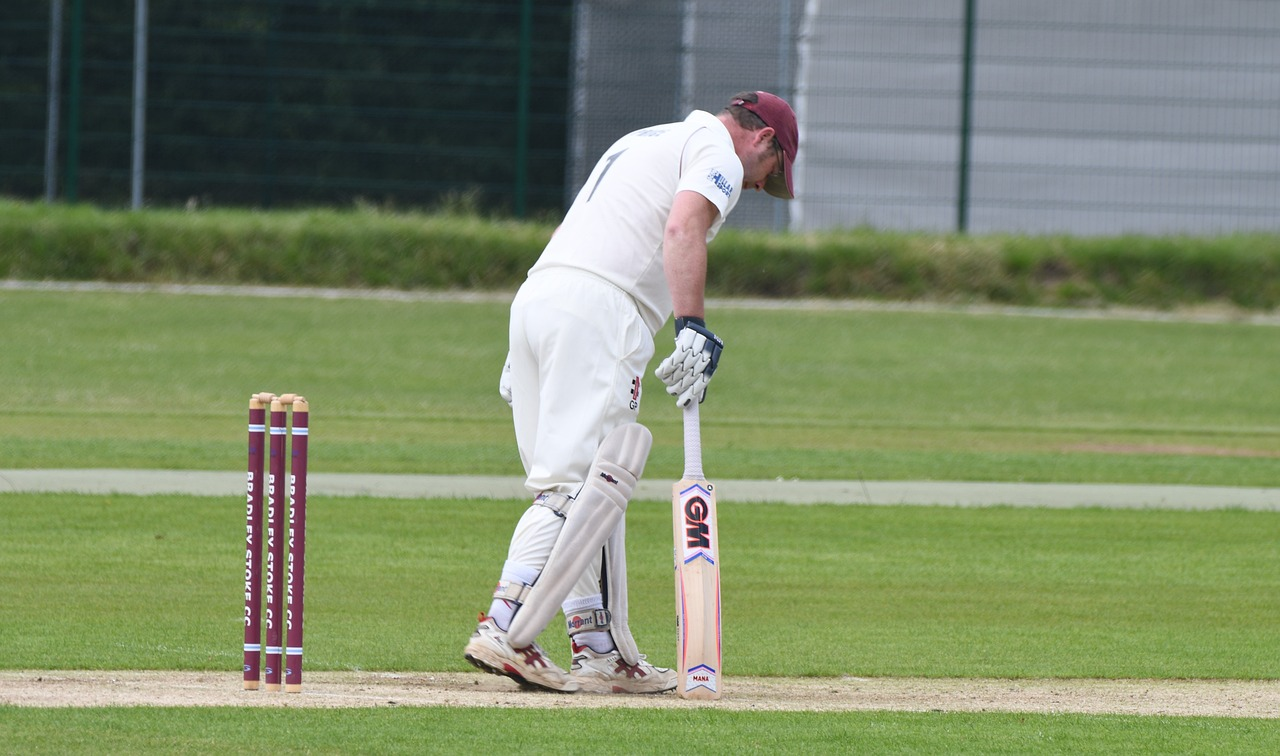bottom left: (665, 682, 689, 700)
bottom right: (708, 678, 731, 704)
top left: (668, 476, 685, 492)
top right: (706, 473, 727, 494)
